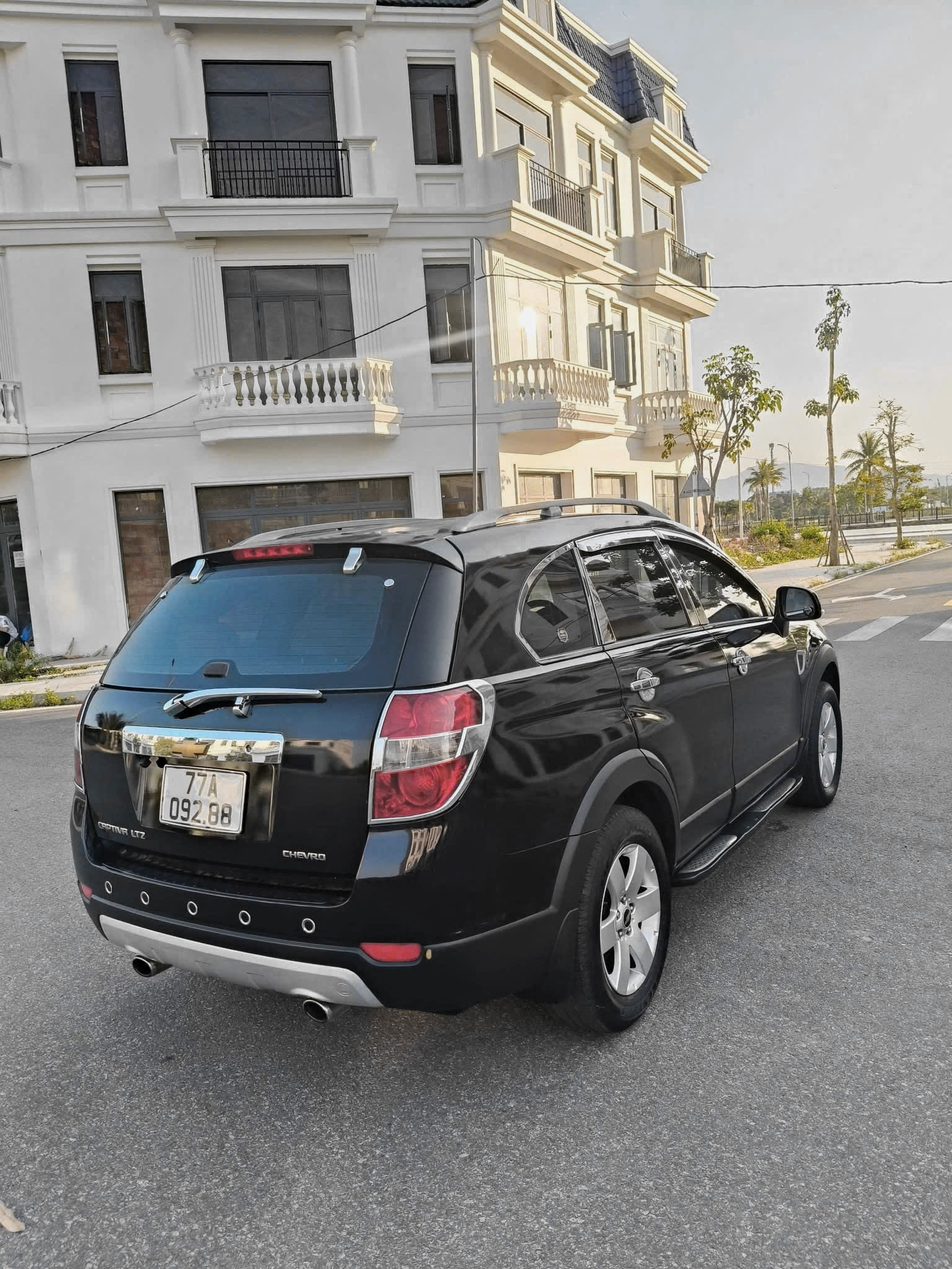Bien-so: (143, 775, 229, 843)
